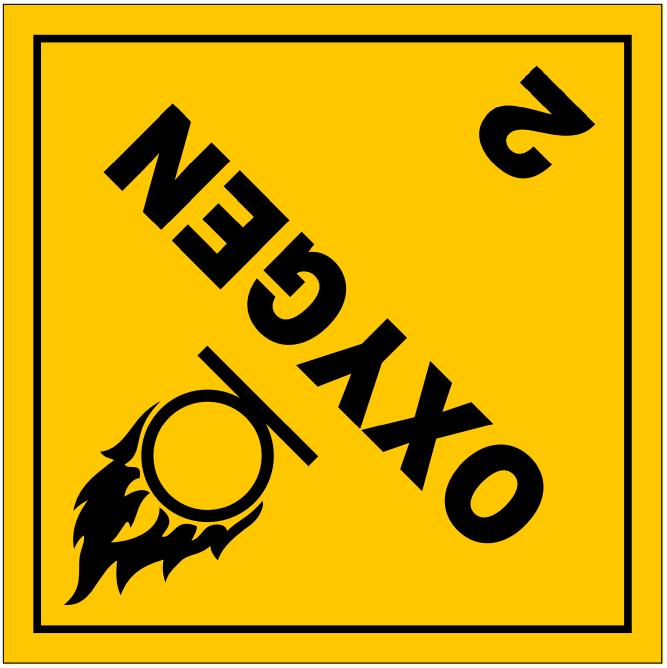oxidizer: (1, 1, 667, 668)
